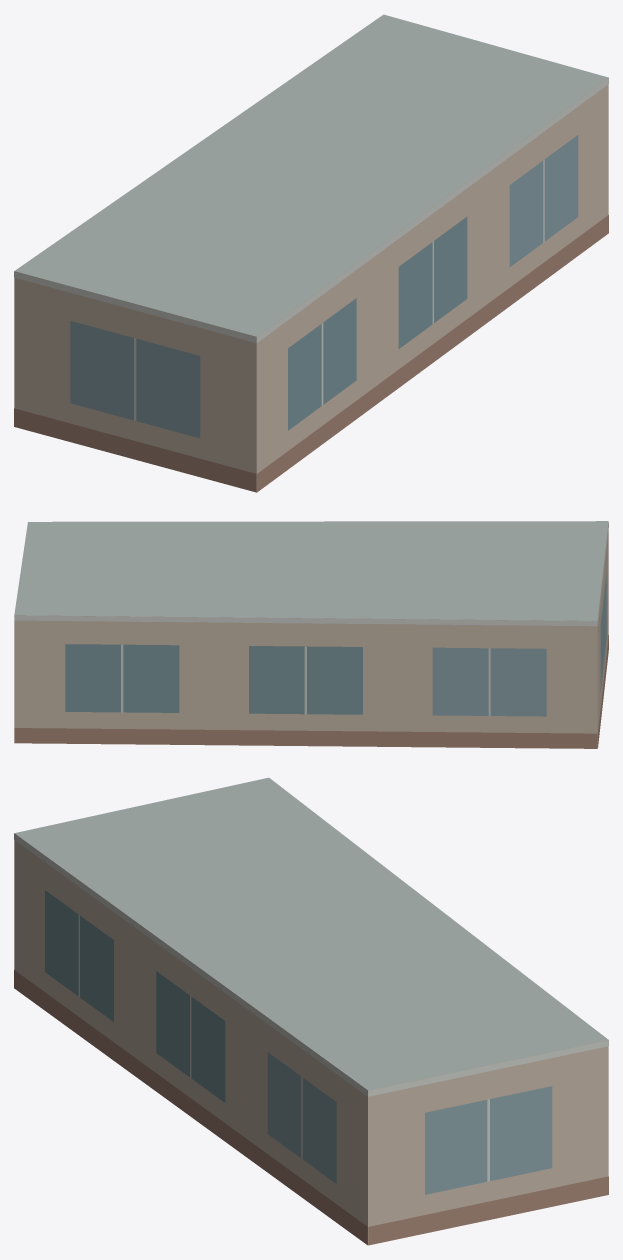
File: survey-upis-32602640.glb
The picture shows the model from 3 angles, top to bottom: view 1: azimuth 30°, elevation 25°; view 2: azimuth 150°, elevation 25°; view 3: azimuth 270°, elevation 25°; orthographic projection. The views are drawn at different scales.
Parts seen in each view (by area): view 1: survey-upis-32602640.tmp; view 2: survey-upis-32602640.tmp; view 3: survey-upis-32602640.tmp.
Boxes of the visible parts, box(x1,y1,x2,y2) form: survey-upis-32602640.tmp: box(14, 14, 608, 492); survey-upis-32602640.tmp: box(14, 521, 608, 748); survey-upis-32602640.tmp: box(14, 777, 608, 1245).
Bounding box in the file's own units: 13.22 × 3.05 × 10.61.
